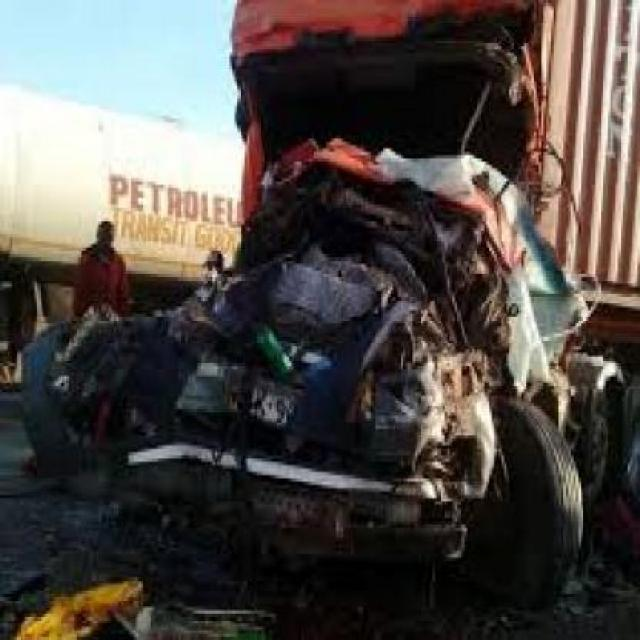accident: (142, 3, 598, 622)
